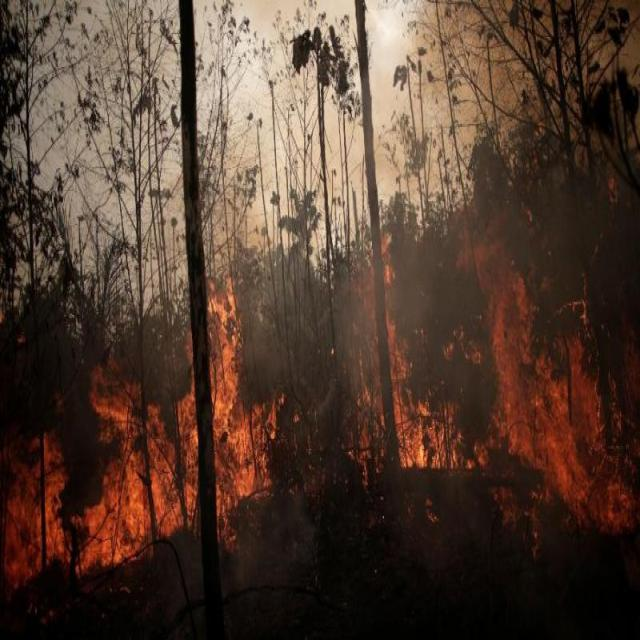Fire: (473, 186, 640, 534), (2, 331, 194, 591), (208, 281, 249, 538), (392, 338, 461, 470), (352, 262, 382, 478), (248, 393, 284, 492)
